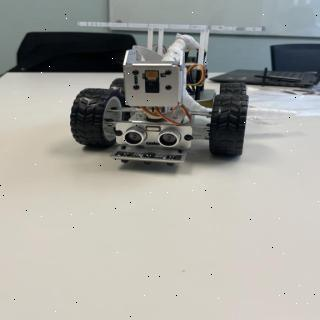vehicle: (69, 12, 257, 172)
